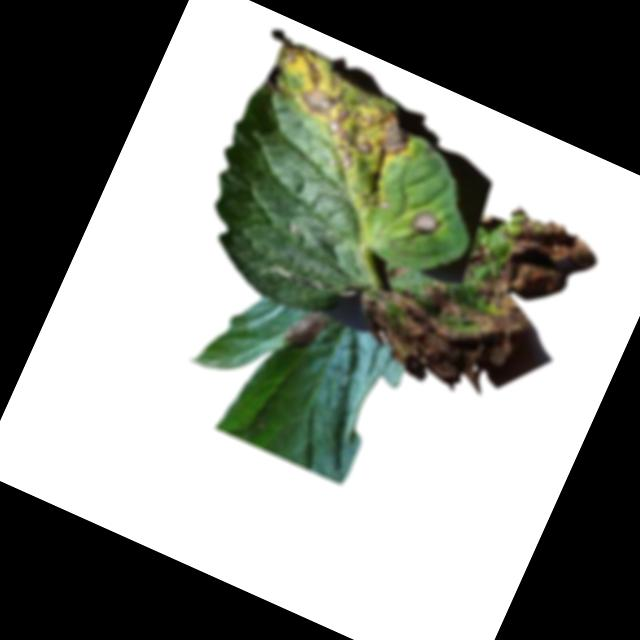Early_blight: (345, 162, 603, 419), (247, 37, 428, 185), (276, 303, 330, 357), (405, 203, 444, 241)
